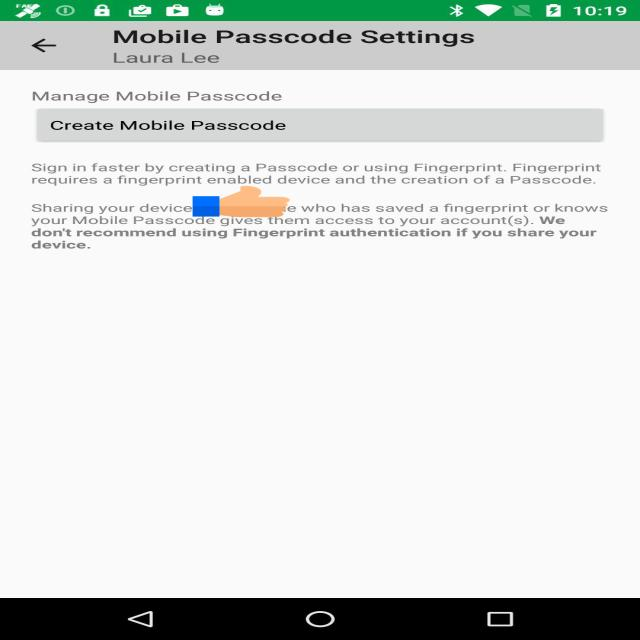privacy zuckering: (192, 185, 290, 218)
